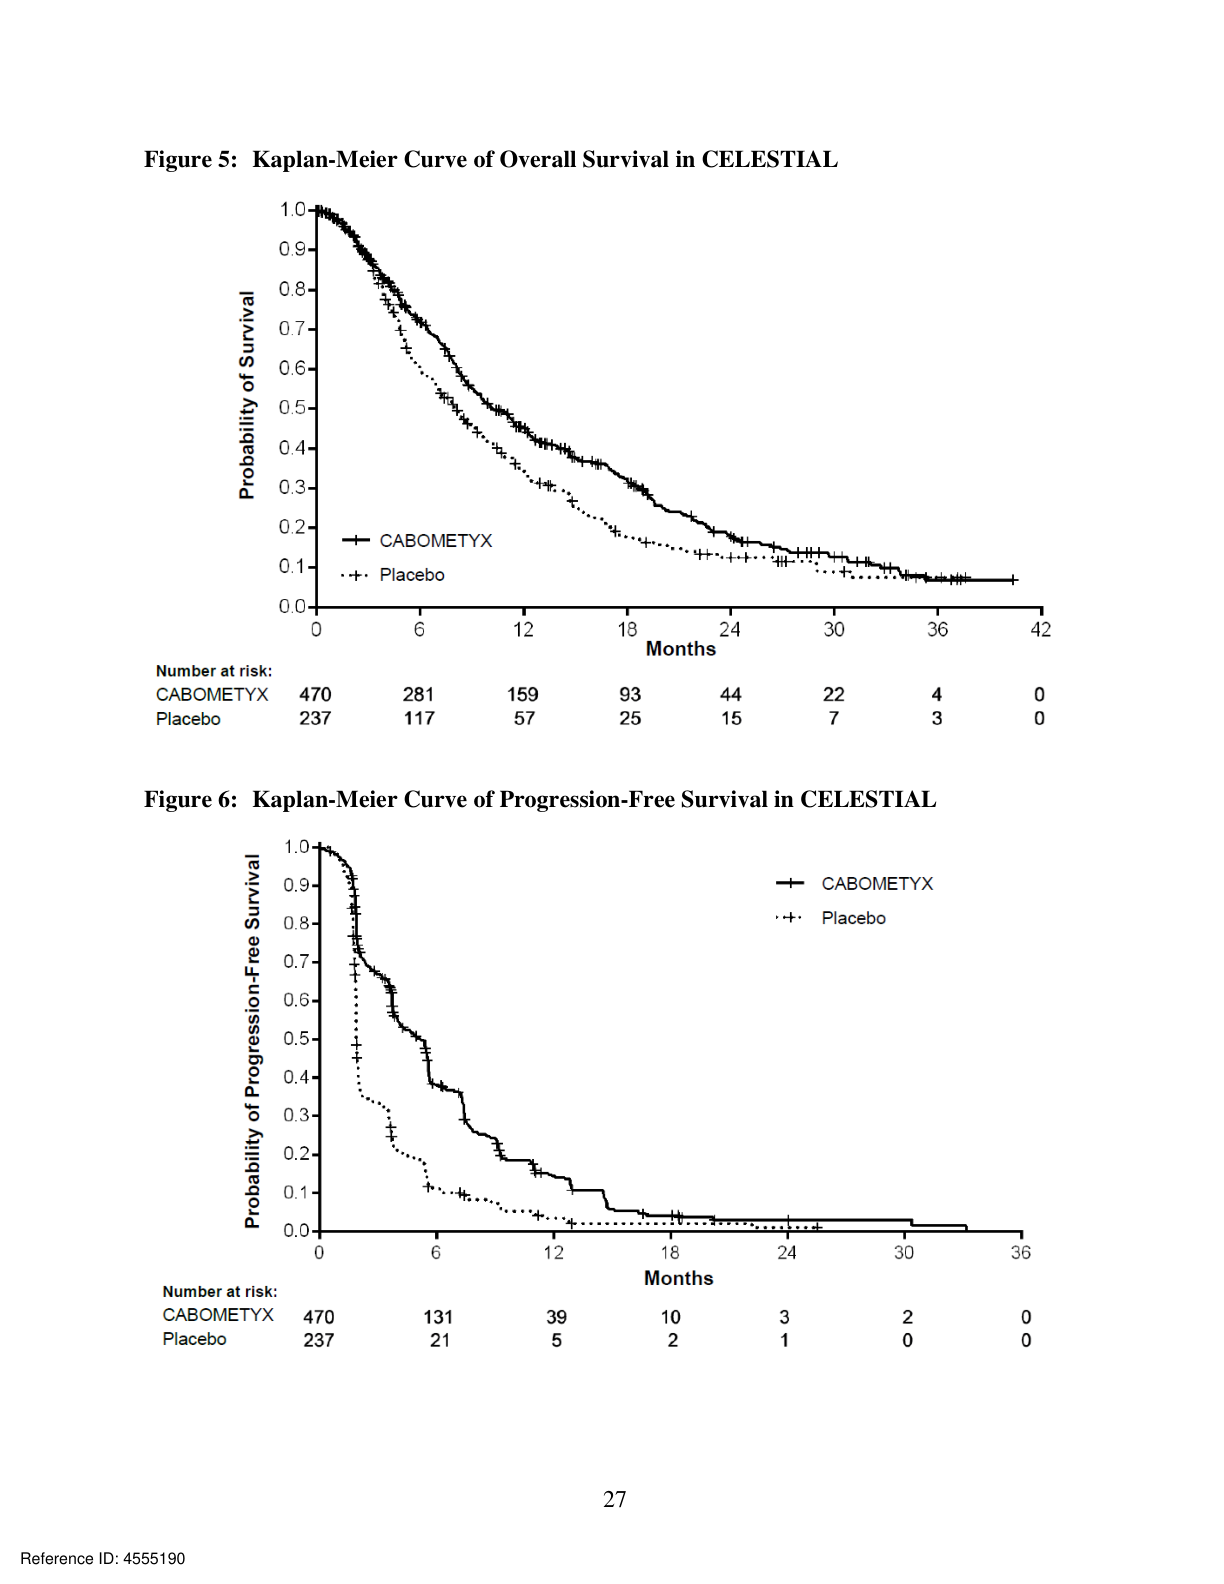nolines: (148, 681, 1049, 732), (158, 1302, 1036, 1350)
